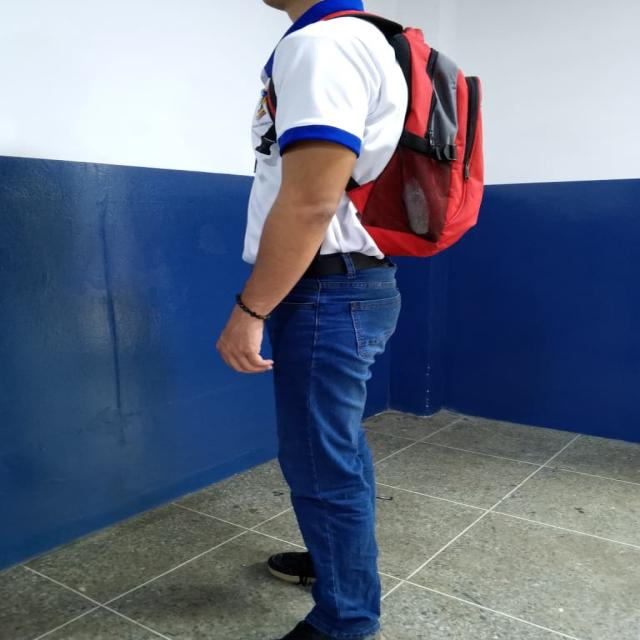pantalon_oscuro: (267, 261, 402, 639)
uniforme_superior: (242, 1, 409, 264)
